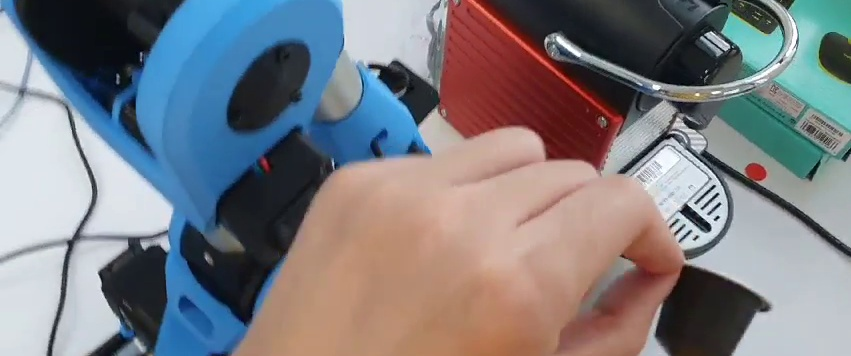capsule_4: (655, 259, 772, 356)
